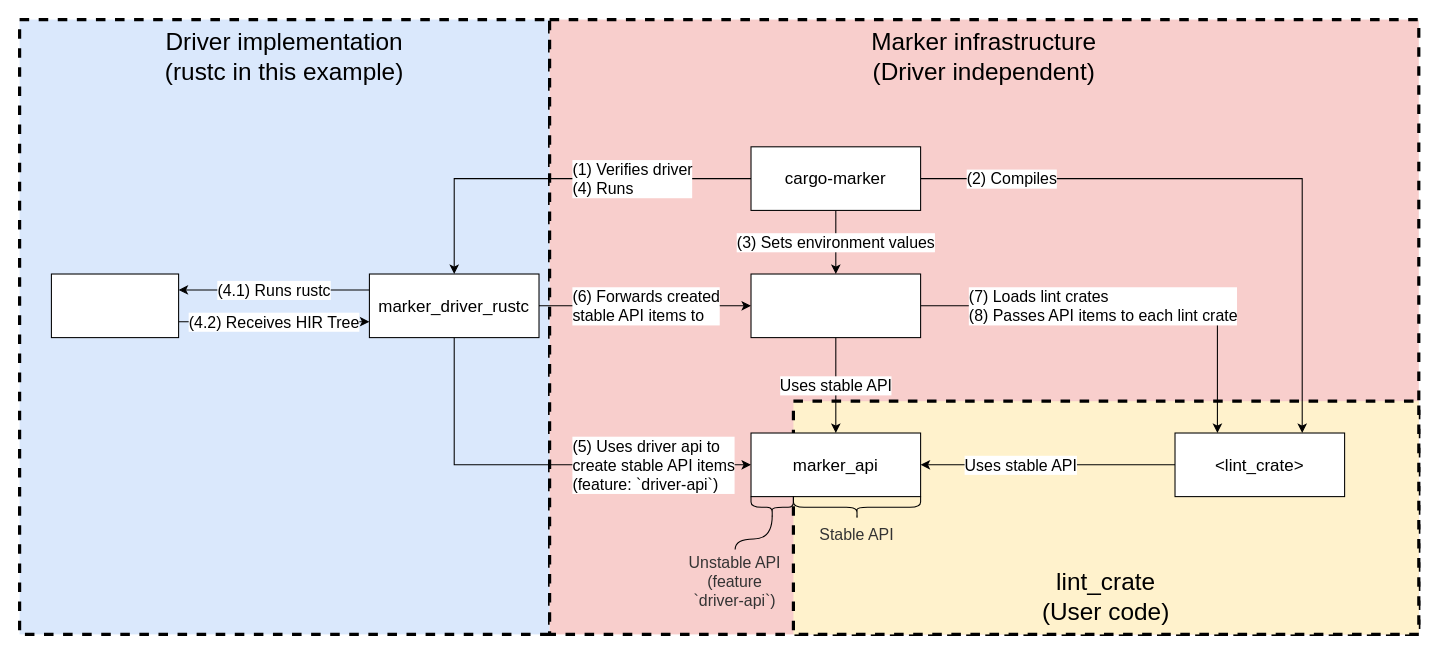
The diagram is 1438 pixels wide and 654 high, and some of its shapes have lost their labels. Here are the shapes that lost their labels. From the top down, the box of each, then its label:
(50, 273, 179, 338): rustc
(750, 273, 921, 338): marker_adapter
